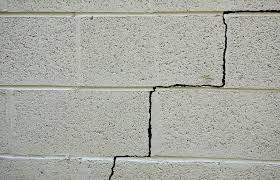stairstep_crack: (106, 8, 279, 179)
